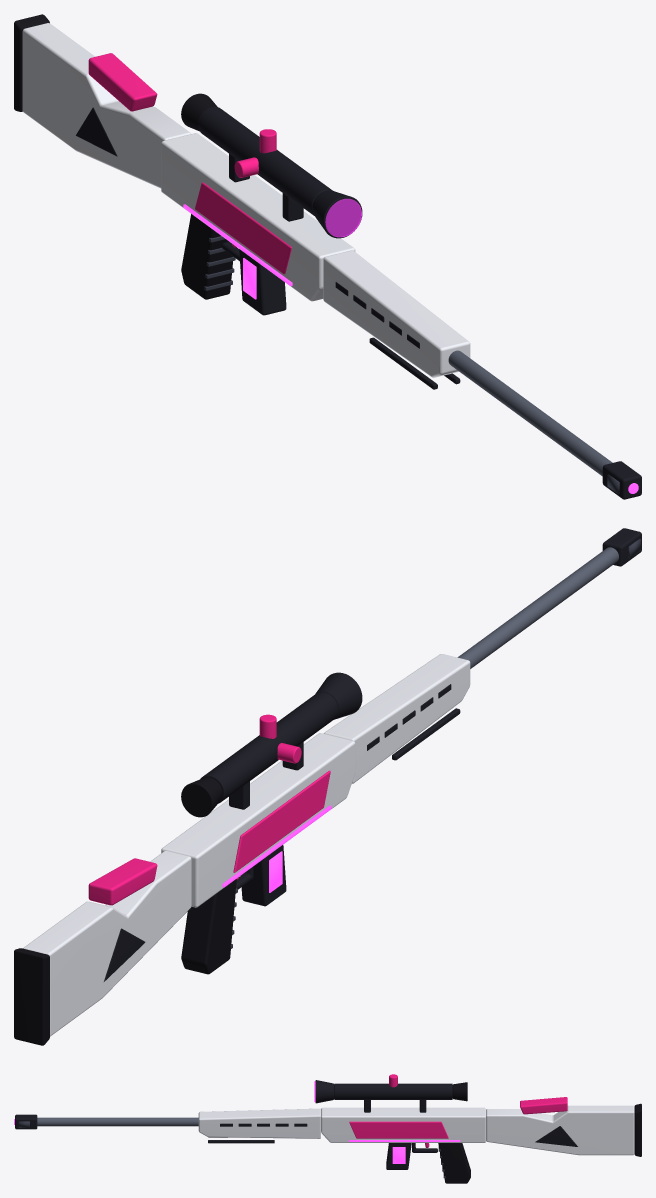
The model's file is GravitySniper.fbx.
3 renders of one model, top to bottom at view 1: azimuth 30°, elevation 25°; view 2: azimuth 150°, elevation 25°; view 3: azimuth 270°, elevation 25°, orthographic. The views are drawn at different scales.
Parts seen in each view (by area): view 1: GravitySniper_Pro_Plastic_White, GravitySniper_Pro_Plastic_Dark, GravitySniper_Pro_Plastic_Pink, GravitySniper_Pro_Rubber_Grip, GravitySniper_Pro_Metal_Gunmetal, GravitySniper_Pro_Glow_pink_12, GravitySniper_Pro_Glass_pink_0.6, GravitySniper_Pro_Plastic_Grey; view 2: GravitySniper_Pro_Plastic_White, GravitySniper_Pro_Plastic_Dark, GravitySniper_Pro_Rubber_Grip, GravitySniper_Pro_Plastic_Pink, GravitySniper_Pro_Metal_Gunmetal, GravitySniper_Pro_Glow_pink_12; view 3: GravitySniper_Pro_Plastic_White, GravitySniper_Pro_Plastic_Dark, GravitySniper_Pro_Plastic_Pink, GravitySniper_Pro_Rubber_Grip, GravitySniper_Pro_Metal_Gunmetal, GravitySniper_Pro_Glow_pink_12.
Boxes of the visible parts, box(x1,y1,x2,y2) form: GravitySniper_Pro_Plastic_White: box(22, 23, 470, 377); GravitySniper_Pro_Plastic_Dark: box(76, 106, 641, 499); GravitySniper_Pro_Plastic_Pink: box(88, 53, 291, 274); GravitySniper_Pro_Rubber_Grip: box(14, 14, 232, 299); GravitySniper_Pro_Metal_Gunmetal: box(448, 350, 612, 476); GravitySniper_Pro_Glow_pink_12: box(183, 204, 638, 493); GravitySniper_Pro_Glass_pink_0.6: box(325, 198, 361, 237); GravitySniper_Pro_Plastic_Grey: box(204, 236, 619, 494); GravitySniper_Pro_Plastic_White: box(23, 654, 470, 1036); GravitySniper_Pro_Plastic_Dark: box(104, 528, 641, 981); GravitySniper_Pro_Rubber_Grip: box(14, 777, 236, 1045); GravitySniper_Pro_Plastic_Pink: box(88, 714, 330, 905); GravitySniper_Pro_Metal_Gunmetal: box(457, 547, 618, 668); GravitySniper_Pro_Glow_pink_12: box(222, 805, 331, 892); GravitySniper_Pro_Plastic_White: box(198, 1105, 634, 1155); GravitySniper_Pro_Plastic_Dark: box(15, 1080, 577, 1169); GravitySniper_Pro_Plastic_Pink: box(349, 1074, 567, 1147); GravitySniper_Pro_Rubber_Grip: box(438, 1082, 641, 1183); GravitySniper_Pro_Metal_Gunmetal: box(37, 1117, 198, 1126); GravitySniper_Pro_Glow_pink_12: box(14, 1119, 460, 1163).
Bounding box in the file's own units: 0.0632 × 0.2434 × 1.32.
